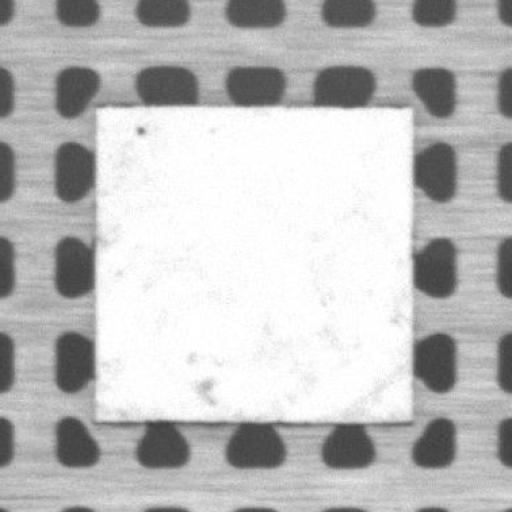DIE_INK: (186, 357, 218, 408), (134, 120, 144, 136)
